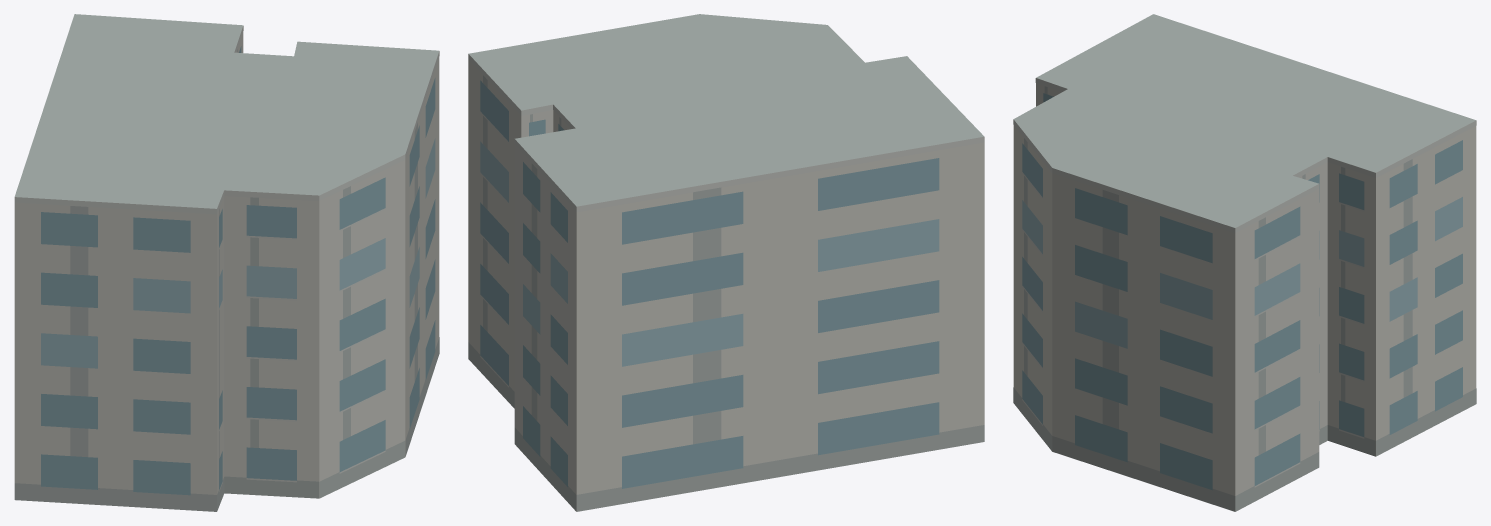
Rendered from survey-upis-32809024.glb.
The picture shows the model from 3 angles, left to right: view 1: azimuth 30°, elevation 25°; view 2: azimuth 150°, elevation 25°; view 3: azimuth 270°, elevation 25°; orthographic projection. The views are drawn at different scales.
Parts seen in each view (by area): view 1: survey-upis-32809024.tmp; view 2: survey-upis-32809024.tmp; view 3: survey-upis-32809024.tmp.
Boxes of the visible parts, x1,y1,x2,y2 form: survey-upis-32809024.tmp: [14, 14, 439, 511]; survey-upis-32809024.tmp: [468, 14, 984, 511]; survey-upis-32809024.tmp: [1013, 14, 1476, 511].
Bounding box in the file's own units: 21.45 × 13.25 × 19.6.
